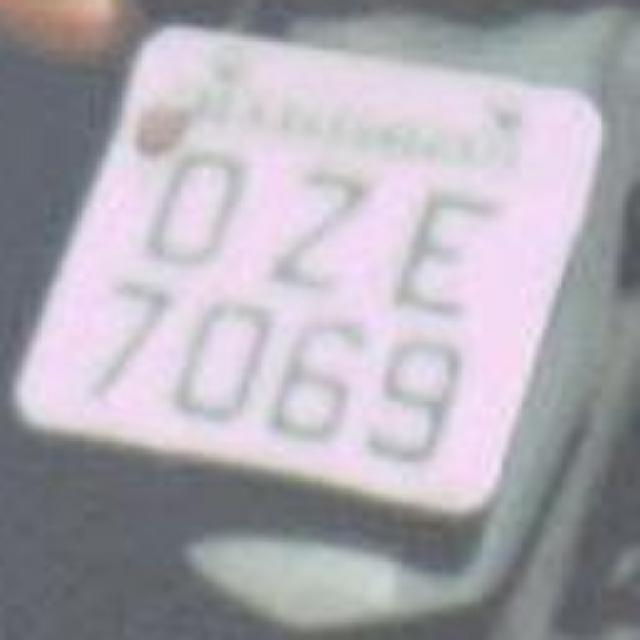0: (151, 264, 284, 436)
6: (249, 284, 376, 456)
7: (52, 251, 180, 424)
9: (352, 312, 480, 476)
E: (385, 184, 500, 316)
O: (132, 120, 256, 285)
Z: (245, 148, 380, 308)
